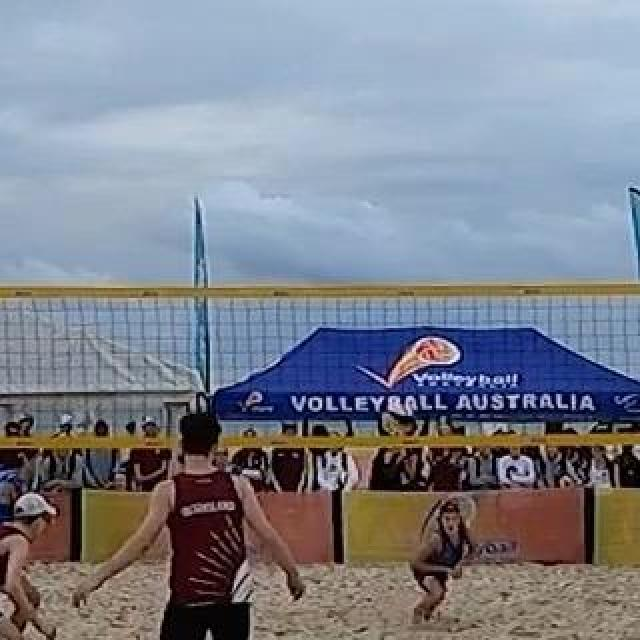volleyball: (382, 405, 414, 435)
